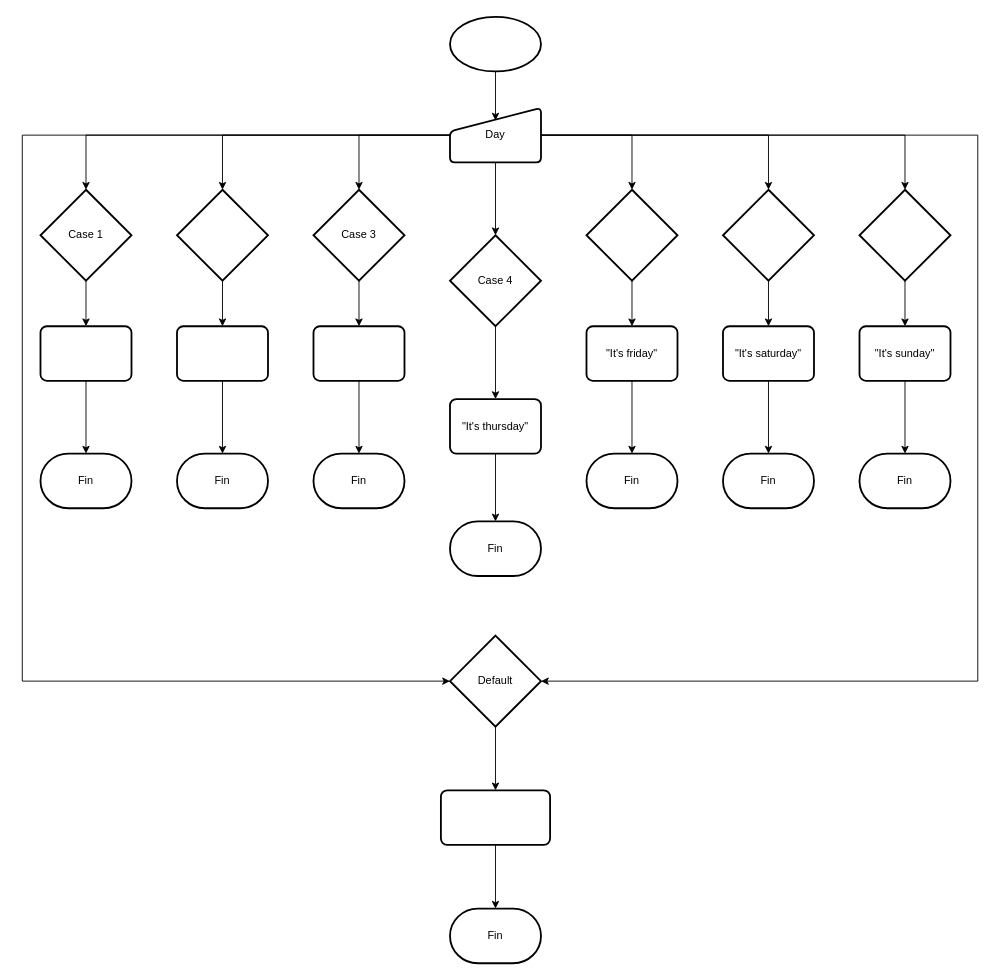
Some shapes in this 1001 by 979 pixel diagram are drawn without their labels. The centre of each missing label's shape, as x and y in pixels:
"It's monday": the point at 85,353
"It's tuesday": the point at 222,353
"It's wednesday": the point at 358,353
"Not a day number": the point at 495,817
Case 2: the point at 222,234
Case 5: the point at 631,234
Case 6: the point at 768,234
Case 7: the point at 904,234
Inicio: the point at 495,43
